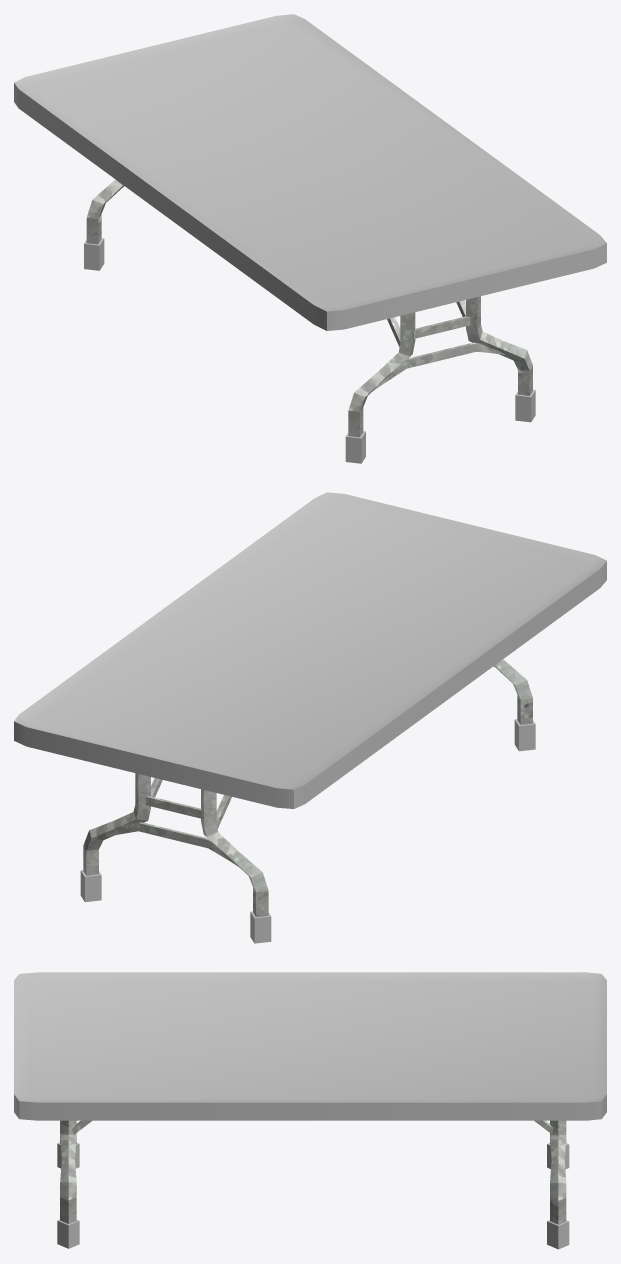
The model's file is foldout_table.FBX.
The picture shows the model from 3 angles, top to bottom: view 1: azimuth 30°, elevation 25°; view 2: azimuth 150°, elevation 25°; view 3: azimuth 270°, elevation 25°; orthographic projection. The views are drawn at different scales.
Parts seen in each view (by area): view 1: Box005; view 2: Box005; view 3: Box005.
Boxes of the visible parts, x1=… form: Box005: x1=14, y1=14, x2=606, y2=463; Box005: x1=14, y1=492, x2=606, y2=943; Box005: x1=14, y1=972, x2=606, y2=1249.
Bounding box in the file's own units: 1.08 × 0.6504 × 2.08.
